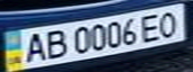0: (69, 24, 93, 55), (87, 20, 109, 52), (106, 19, 127, 48)
6: (118, 15, 142, 47)
A: (18, 29, 51, 64)
B: (39, 27, 69, 61)
E: (136, 11, 166, 43)
O: (154, 8, 187, 38)
